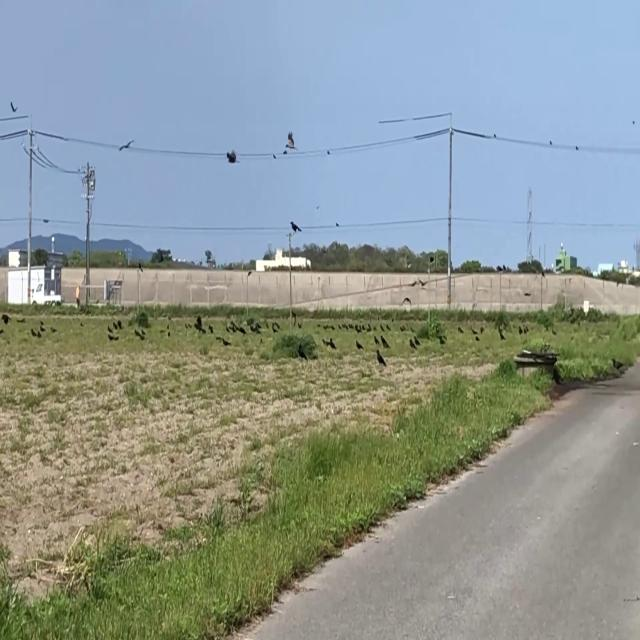bird: (285, 125, 295, 157), (121, 132, 132, 156), (227, 144, 236, 168), (377, 345, 384, 370), (380, 334, 386, 354), (11, 96, 16, 116), (405, 294, 412, 308), (410, 336, 415, 354), (331, 335, 335, 352), (356, 335, 360, 351), (117, 315, 121, 331), (519, 322, 523, 336), (336, 220, 340, 232)
